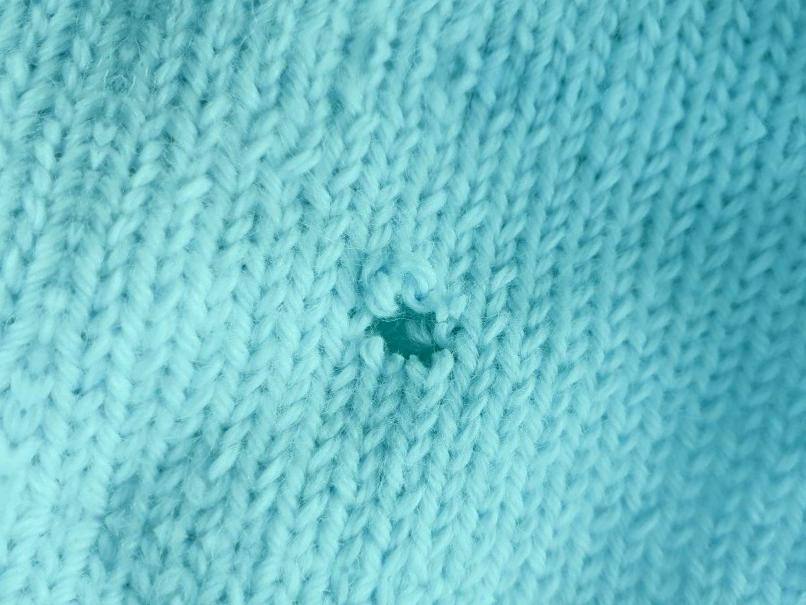hole: (355, 296, 470, 375)
